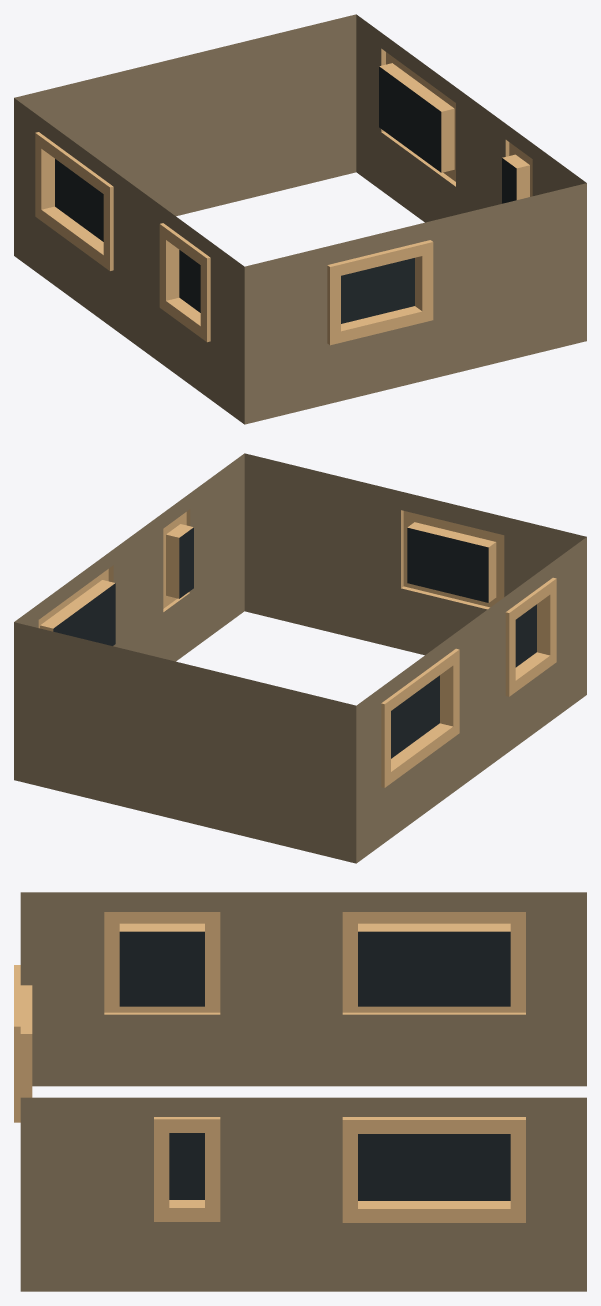
Rendered from building2_middle.fbx.
3 views of the same model, one above another, from view 1: azimuth 30°, elevation 25°; view 2: azimuth 150°, elevation 25°; view 3: azimuth 270°, elevation 25° (orthographic). The views are drawn at different scales.
Visible parts, largest first — view 1: building2_middle; view 2: building2_middle; view 3: building2_middle.
Part boxes in pixels (x1,y1,x2,y2): building2_middle: [14, 14, 586, 424]; building2_middle: [14, 453, 586, 863]; building2_middle: [14, 892, 586, 1291].
Size of the model in its own units: 581 by 250 by 669.
